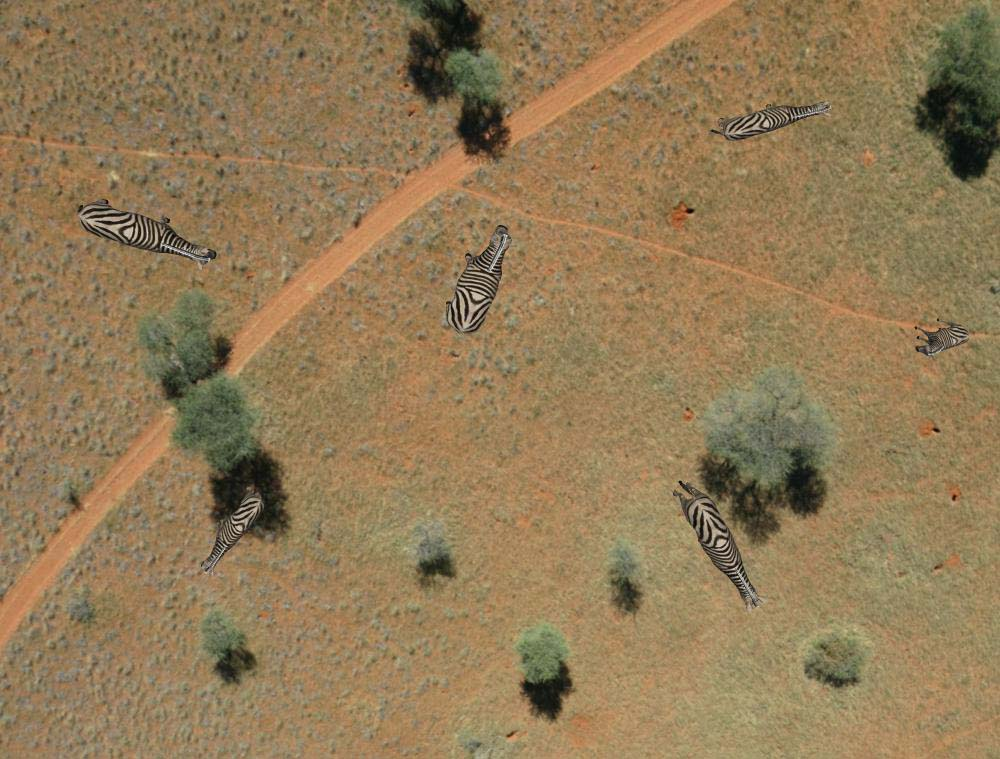zebra: (669, 472, 763, 612), (77, 192, 223, 269), (442, 219, 517, 339), (202, 477, 259, 573), (715, 99, 831, 140), (910, 313, 967, 361)
